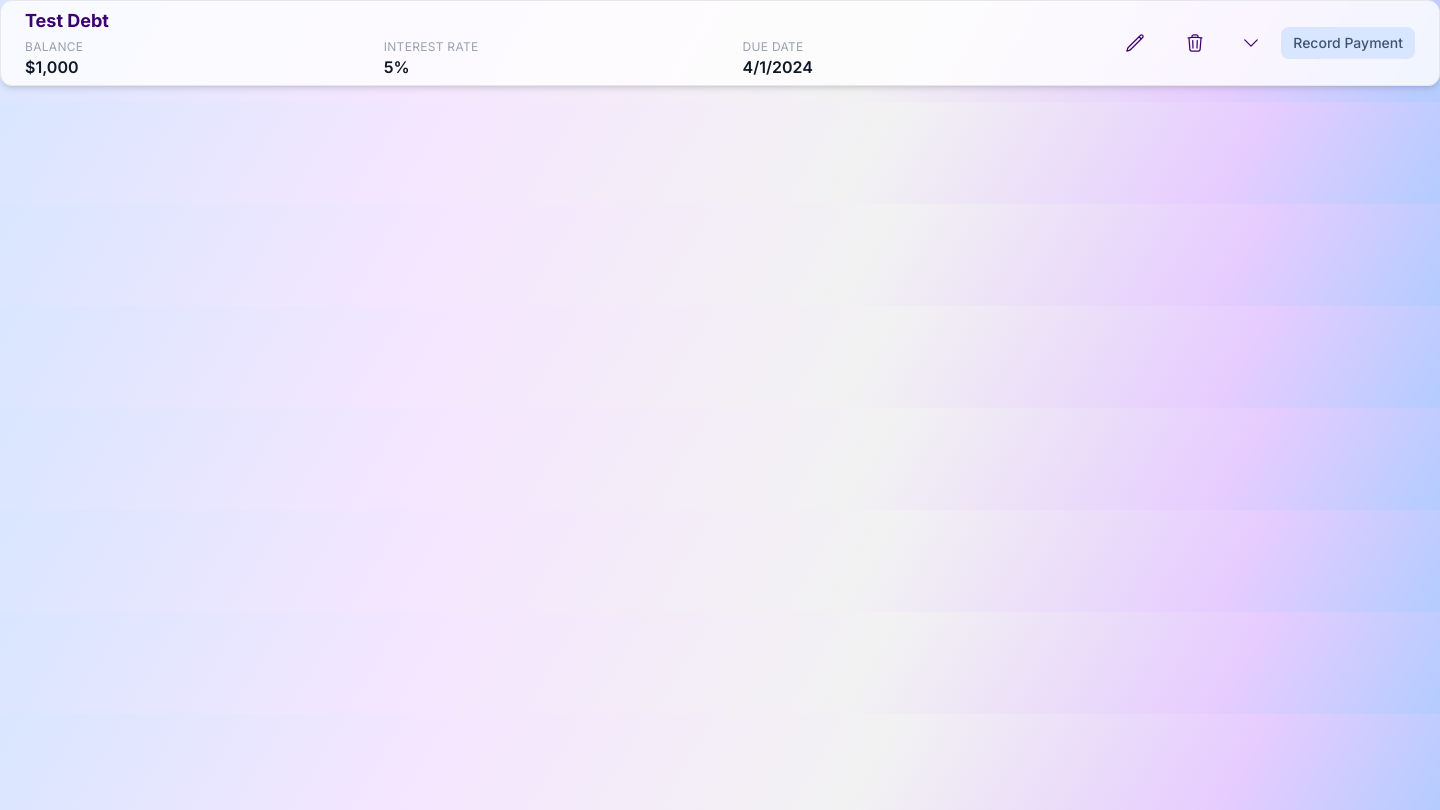
Test: DebtCard › displays payment history when expanded
The image size is (1440, 810).
What coordinates should you click on to do the following:
click the text "Test Debt"
I would click on:
 (67, 20)
Its box is [25,10,109,31].
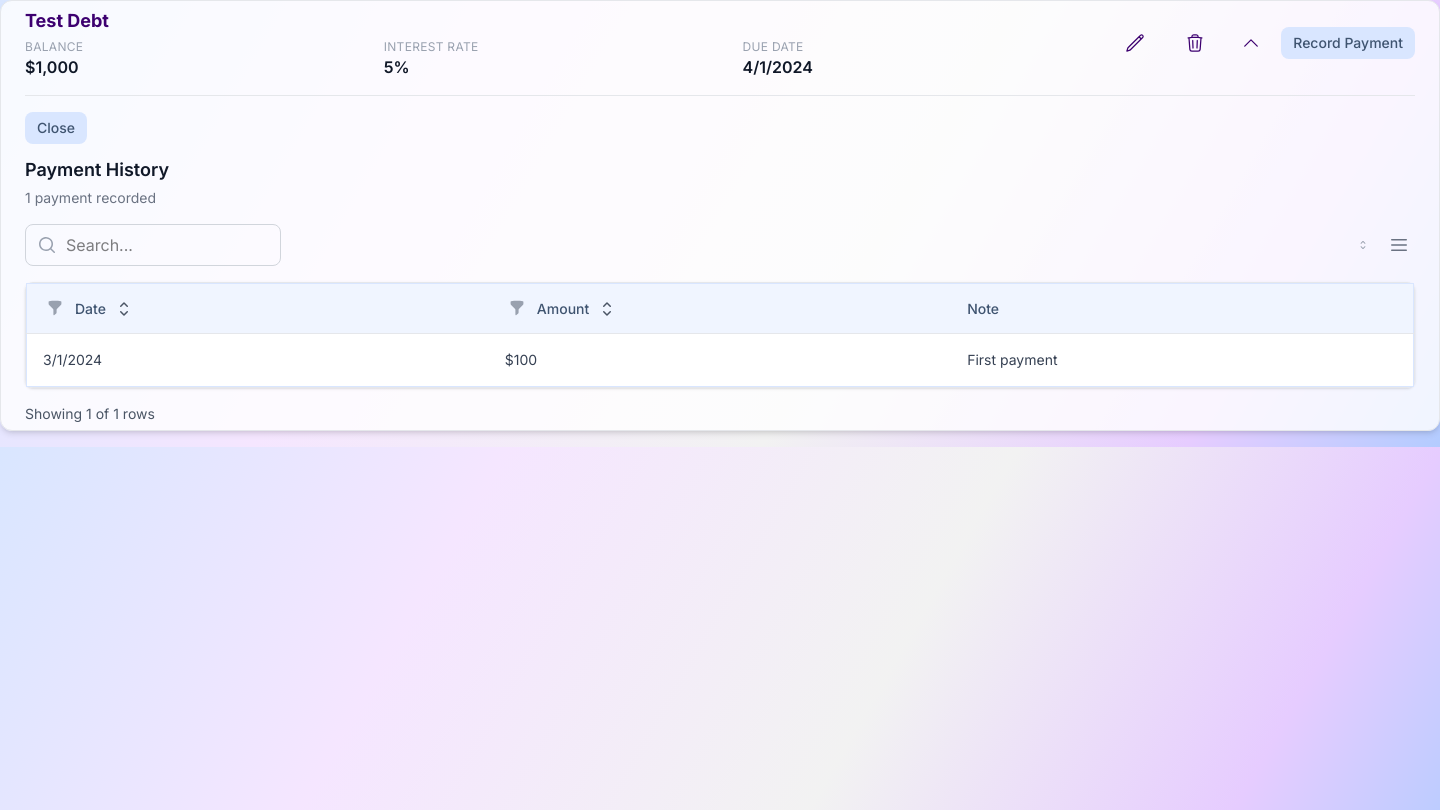
Now the text "First payment" is shown, box [951,334,1414,386]
